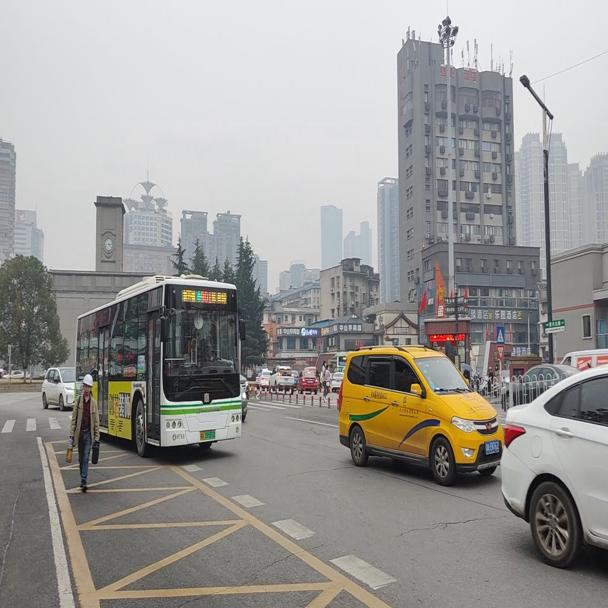bus: (74, 271, 246, 457)
screen: (200, 289, 211, 303)
